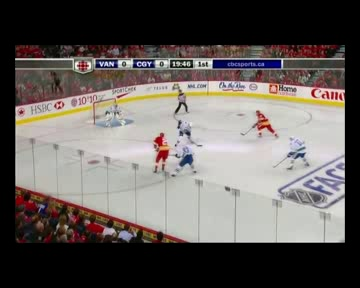normal: (149, 131, 199, 179), (235, 105, 285, 144)
